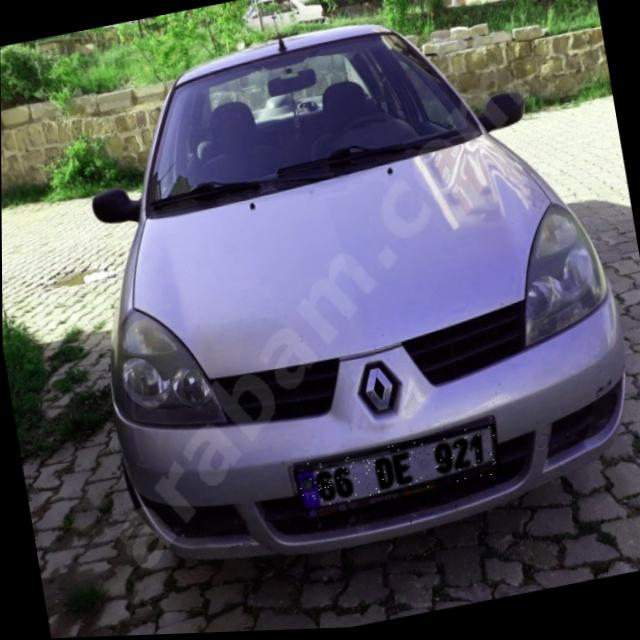license_plate: (293, 427, 502, 515)
